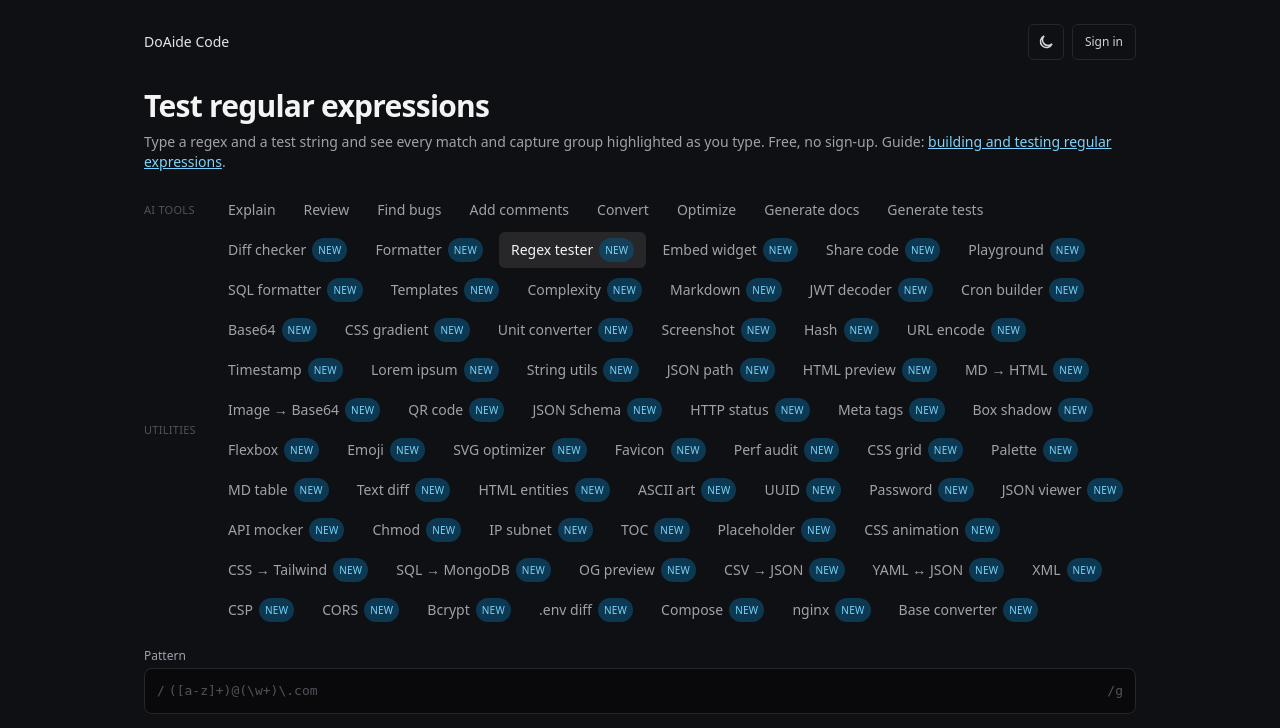
Test case: RegexPage › toggles flags
Type "A" into the field with test id "rx-pattern".
click(636, 691); type("A")  # box x1=165 y1=669 x2=1107 y2=713
(page scrolled)
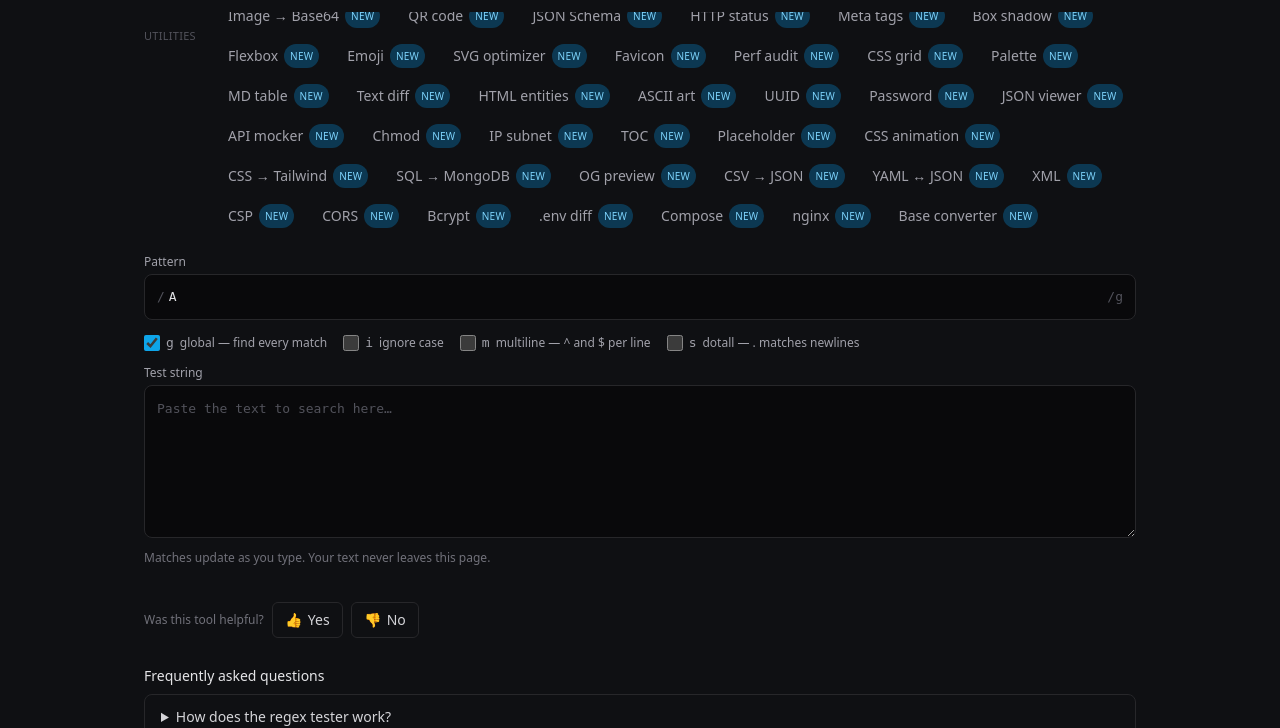
Type "aaa" into the text box with test id "rx-text".
click(640, 462); type("aaa")  # box x1=144 y1=385 x2=1136 y2=538
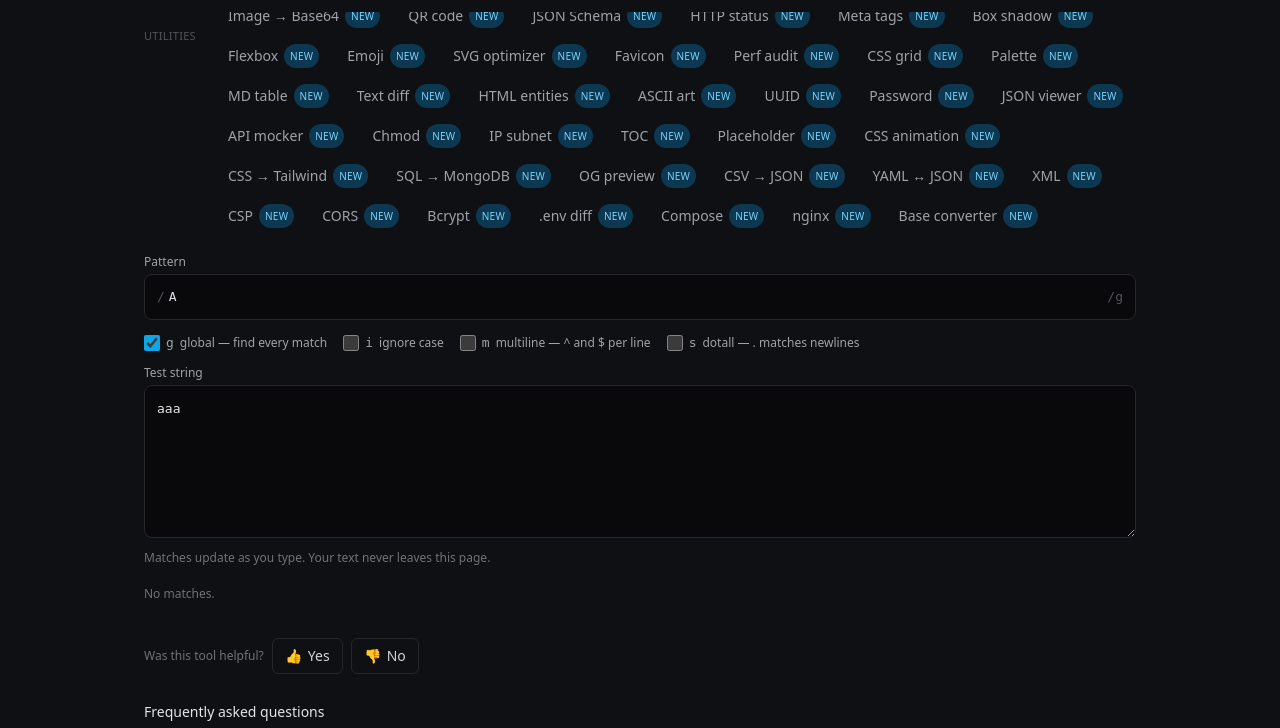
Check: the message with test id "rx-count" reads "No matches.", box x1=144 y1=585 x2=215 y2=602
Click the checkbox with test id "rx-flag-i".
click(351, 343)  # box x1=343 y1=335 x2=359 y2=351
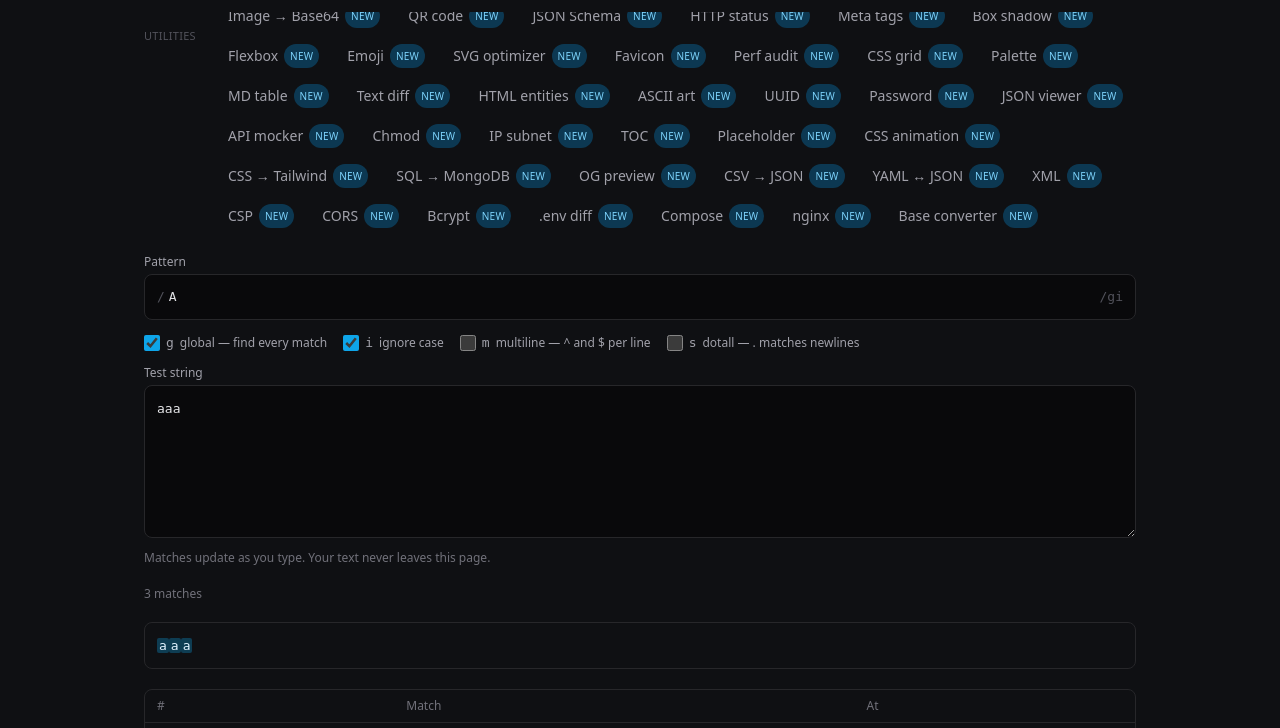
Check: the message with test id "rx-count" reads "3 matches", box x1=144 y1=585 x2=202 y2=602
Click the checkbox with test id "rx-flag-g".
click(152, 343)  # box x1=144 y1=335 x2=160 y2=351
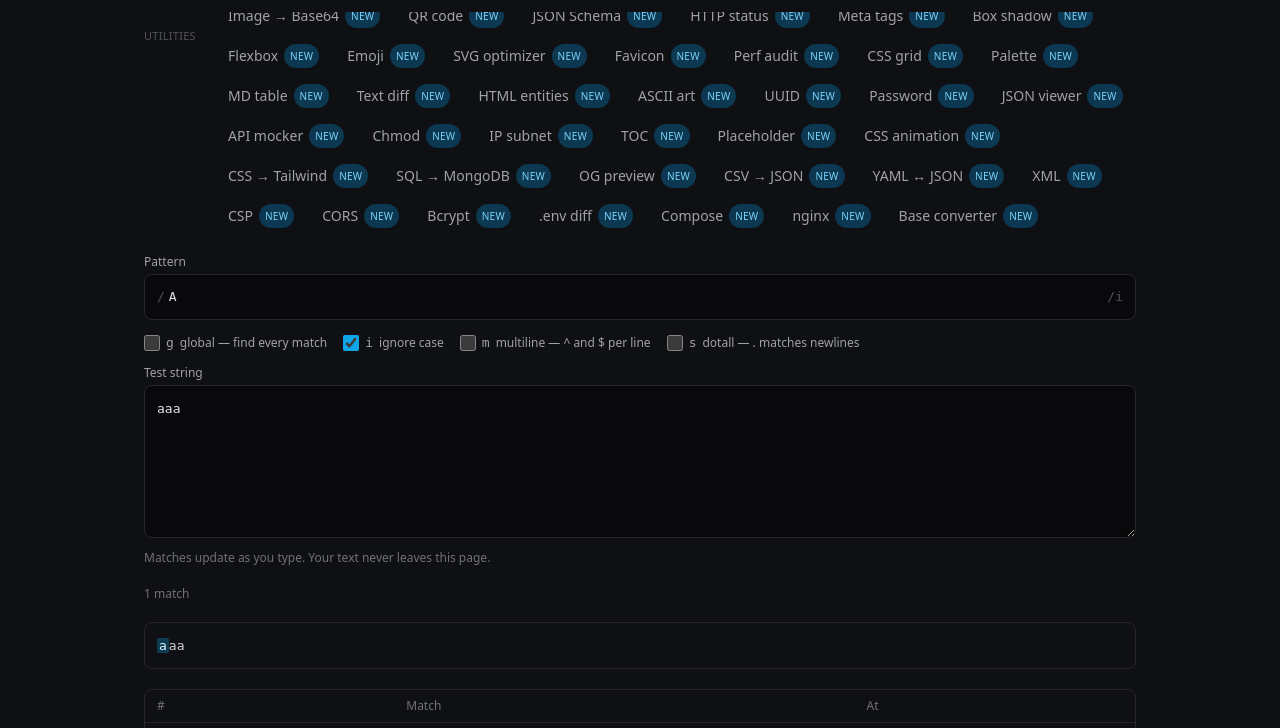
Check: the message with test id "rx-count" reads "1 match", box x1=144 y1=585 x2=190 y2=602
